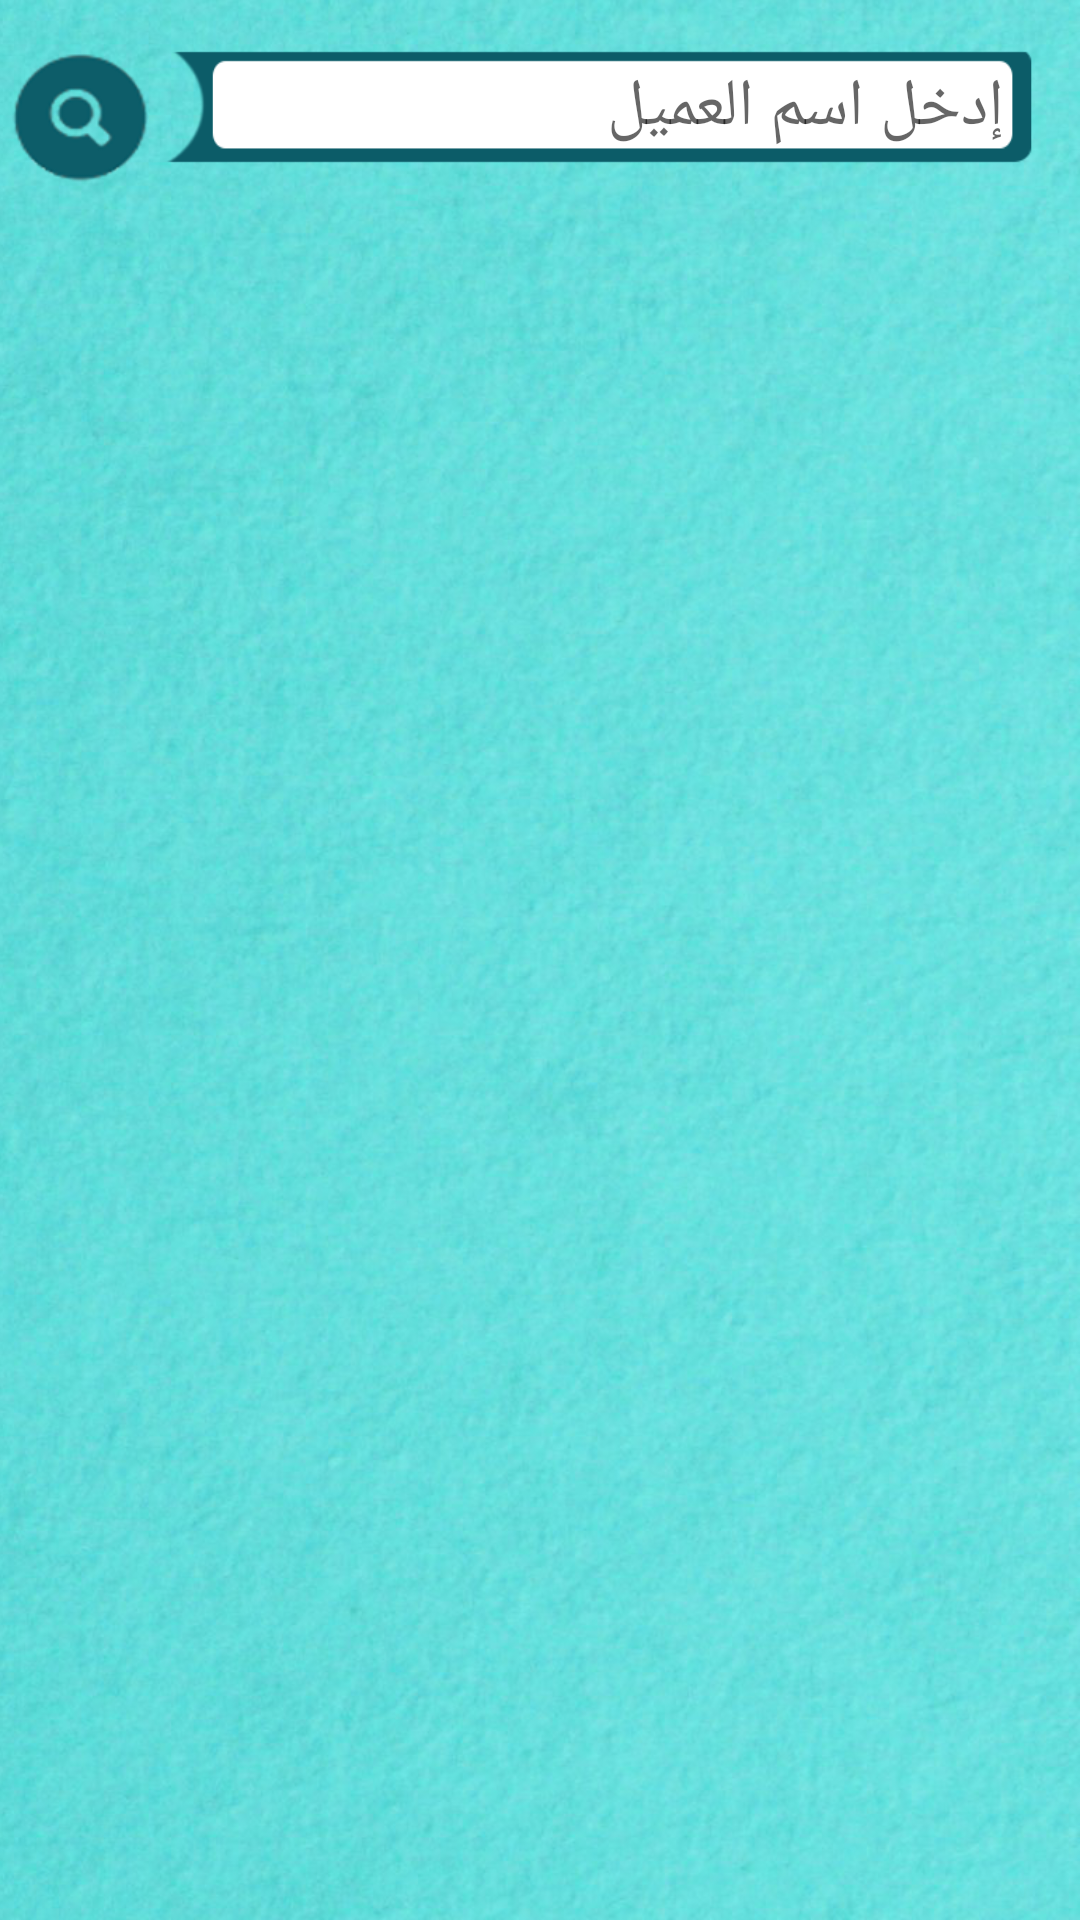

Icon click points for this 1080×1920 phone screenshot, format [x,y]:
buttonsearch: [80,117]
